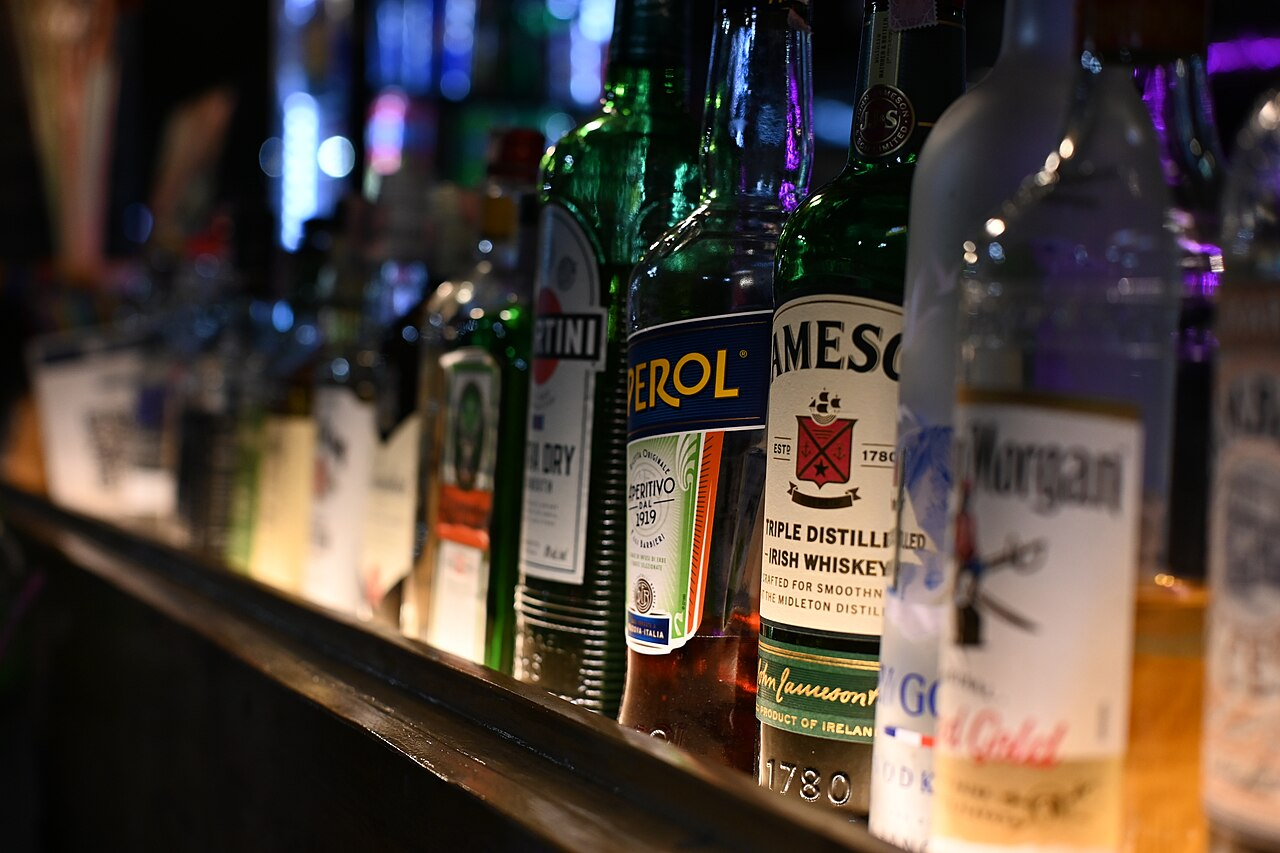aperol: (618, 9, 815, 758)
captainmorganspicedgold: (871, 1, 1207, 842)
jagermeister: (404, 121, 543, 668)
jameson: (752, 1, 964, 820)
martinirosso: (514, 3, 708, 722)
unknown_bottle: (1201, 86, 1280, 845)
